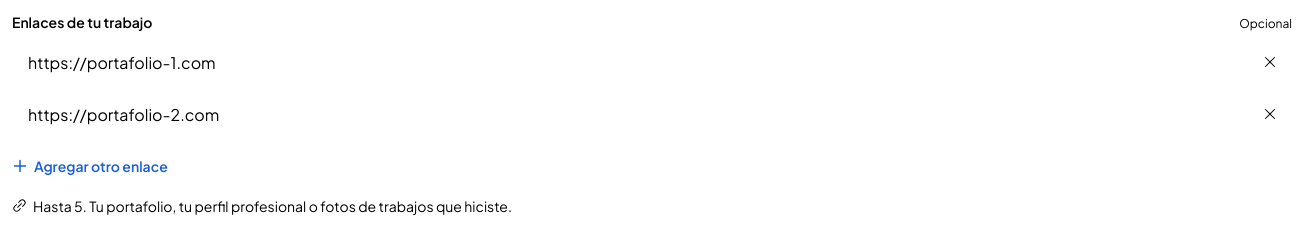
Scenario: PortfolioLinksField: identidad de fila al borrar › borrar la PRIMERA fila no arrastra su valor a la que queda primera
The width and height of the screenshot is (1304, 233).
What coordinates should you click on to do the following:
click the button named "Quitar el enlace"
I would click on:
 (1270, 62)
Its box is x1=1248 y1=40 x2=1292 y2=84.
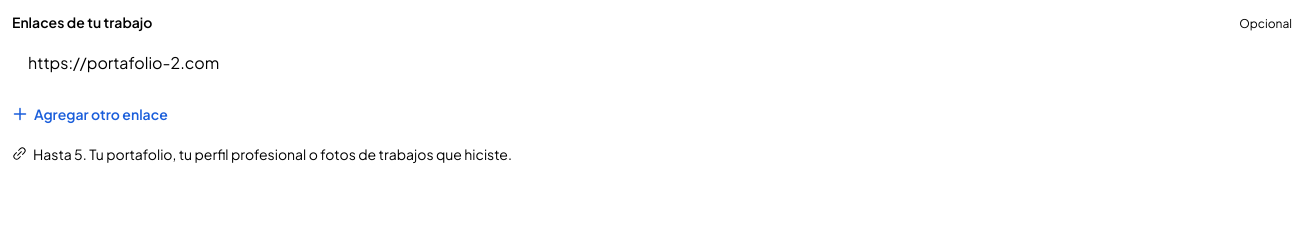
Check: the field holds "https://portafolio-2.com", box x1=12 y1=40 x2=1292 y2=84
Check: the number of fields is 1, box x1=12 y1=40 x2=1292 y2=84
